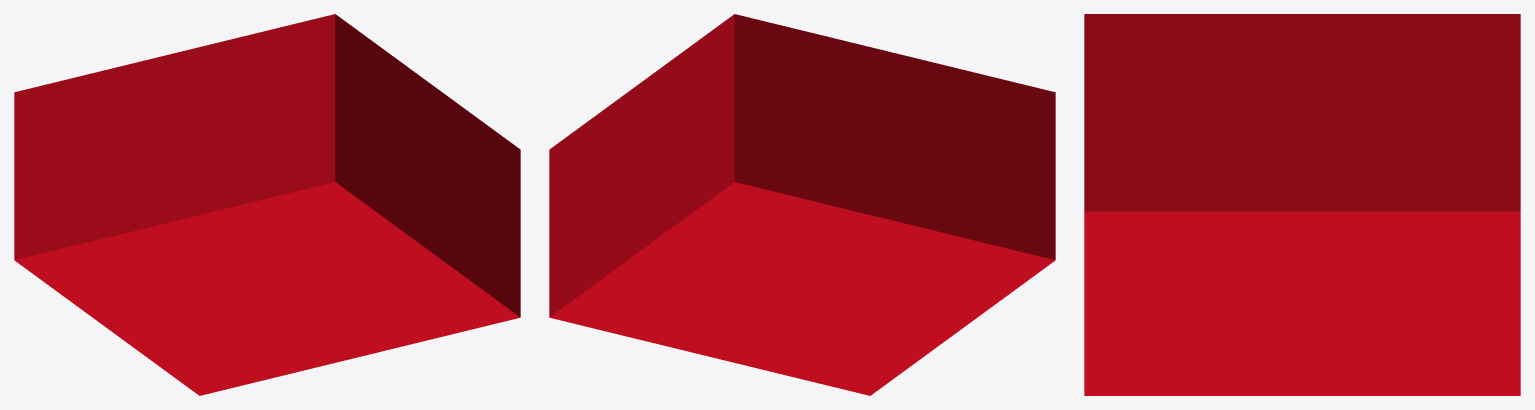
File: stage-heart-red.glb
3 views of the same model, side by side, from view 1: azimuth 30°, elevation 25°; view 2: azimuth 150°, elevation 25°; view 3: azimuth 270°, elevation 25° (orthographic). The views are drawn at different scales.
Visible parts, largest first — view 1: Plane (×4); view 2: Plane (×4); view 3: Plane (×3).
Boxes of the visible parts, box(x1,y1,x2,y2) form: Plane (×4): box(14, 14, 520, 395); Plane (×4): box(549, 14, 1055, 395); Plane (×3): box(1084, 14, 1520, 395).
Bounding box in the file's own units: 20 × 10 × 20.
Materials: 9 (9 with a texture image).
